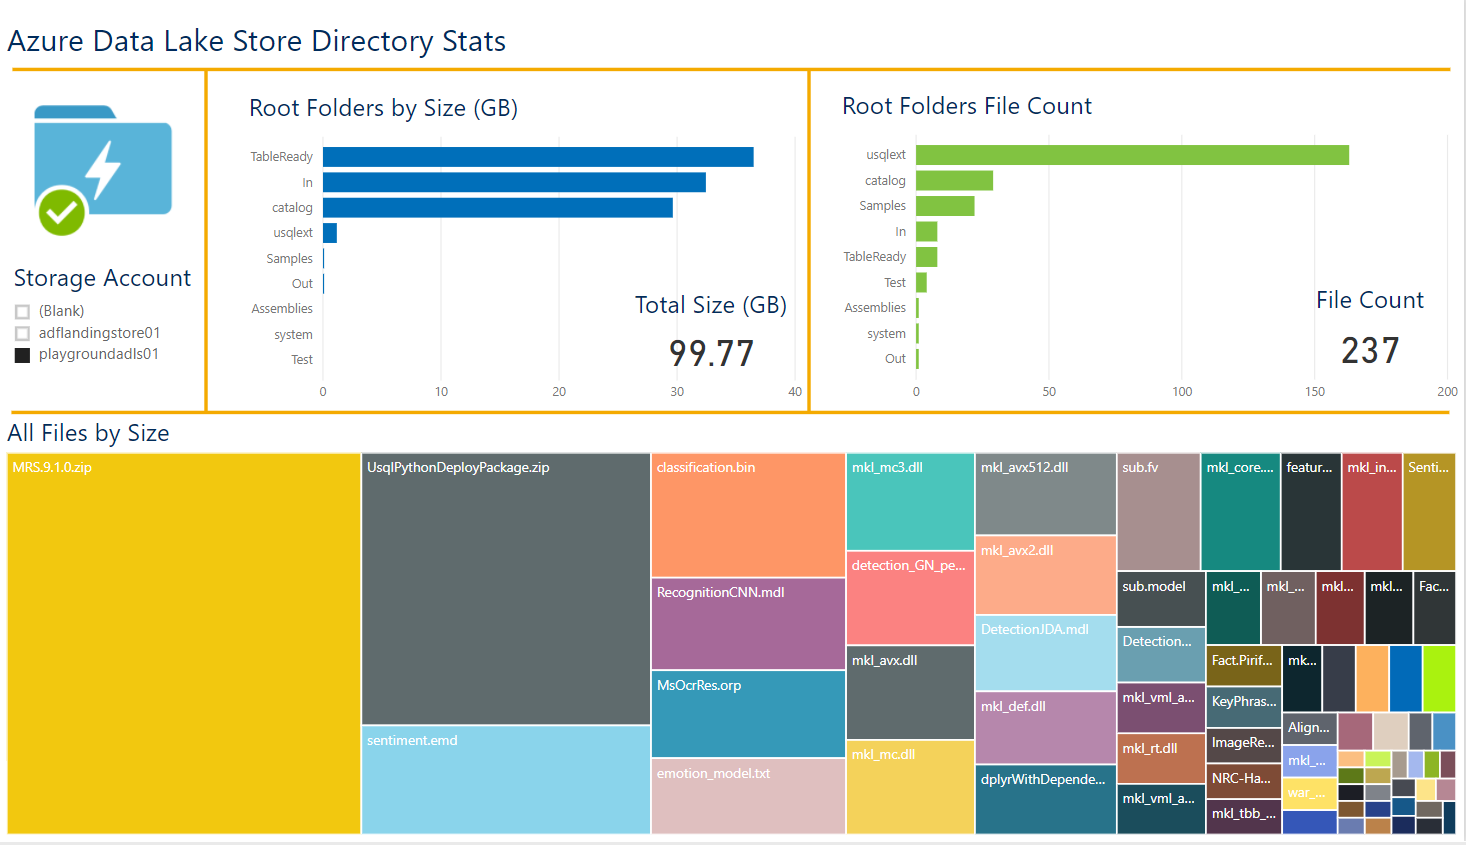

What the dashboard file says about the page in this screenshot:
{"tool":"powerbi","page":{"name":"Page 1","canvas":[1280,720],"ordinal":0},"visuals":[{"type":"barChart","fields":{"Category":["ParentFolders.RootFolders"],"Y":["Sum(ParentFolders.SizeGB)"]},"box":[212.6,63,494.3,281.7],"z":1},{"type":"treemap","fields":{"Group":["StoreDetails.FileName"],"Values":["Sum(StoreDetails.Size)"]},"box":[0.9,347.3,1278.2,371.8],"z":2},{"type":"image","box":[0,63.9,178.5,135.6],"z":3},{"type":"card","fields":{"Values":["Sum(ParentFolders.SizeGB)"]},"box":[544.2,235.3,155.7,83.1],"z":4},{"type":"barChart","fields":{"Category":["ParentFolders.RootFolders"],"Y":["Sum(ParentFolders.FileCount)"]},"box":[731.4,61.2,548.5,283.5],"z":5},{"type":"card","fields":{"Values":["Sum(ParentFolders.FileCount)"]},"box":[1117.2,231,162.7,84.9],"z":6},{"type":"textbox","box":[0.9,0,1278.2,49.9],"z":7},{"type":"basicShape","box":[0.9,0,1278.2,90.1],"z":9},{"type":"basicShape","box":[162.7,35,35,319.3],"z":9},{"type":"basicShape","box":[690.3,35,35,319.3],"z":9},{"type":"basicShape","box":[0,300.1,1278.2,90.1],"z":9},{"type":"slicer","fields":{"Values":["StorageAcounts.AccountName"]},"box":[0,211.7,179.3,132.1],"z":12}]}

Visuals, with their boxes in screenshot pixels (x1, y1, x2, y2), scaled from the page's 1280x720 canvas onto the 1466x845 screenshot:
barChart - ParentFolders.RootFolders x Sum(ParentFolders.SizeGB): <box>243,74,810,405</box>
treemap - StoreDetails.FileName x Sum(StoreDetails.Size): <box>1,408,1465,844</box>
image: <box>0,75,204,234</box>
card - Sum(ParentFolders.SizeGB): <box>623,276,802,374</box>
barChart - ParentFolders.RootFolders x Sum(ParentFolders.FileCount): <box>838,72,1465,405</box>
card - Sum(ParentFolders.FileCount): <box>1280,271,1465,371</box>
textbox: <box>1,0,1465,59</box>
basicShape: <box>1,0,1465,106</box>
basicShape: <box>186,41,226,416</box>
basicShape: <box>791,41,831,416</box>
basicShape: <box>0,352,1464,458</box>
slicer - StorageAcounts.AccountName: <box>0,248,205,403</box>
